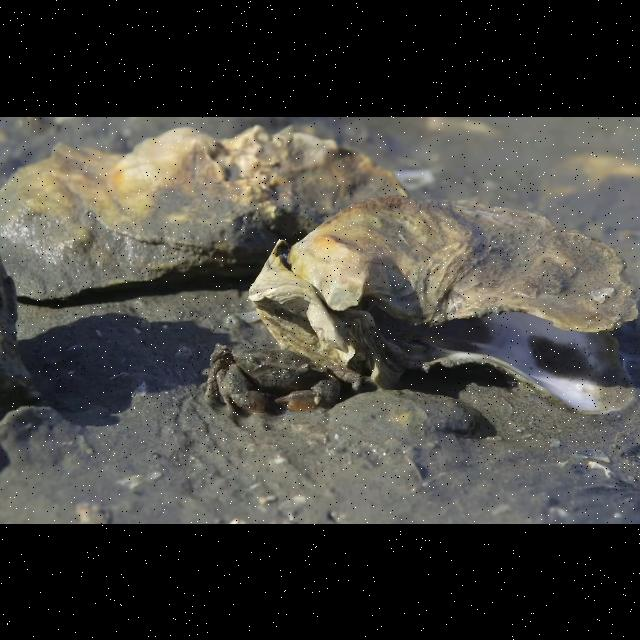Oyster-Closed: (0, 125, 406, 302)
Oyster-Open: (249, 196, 637, 418)
